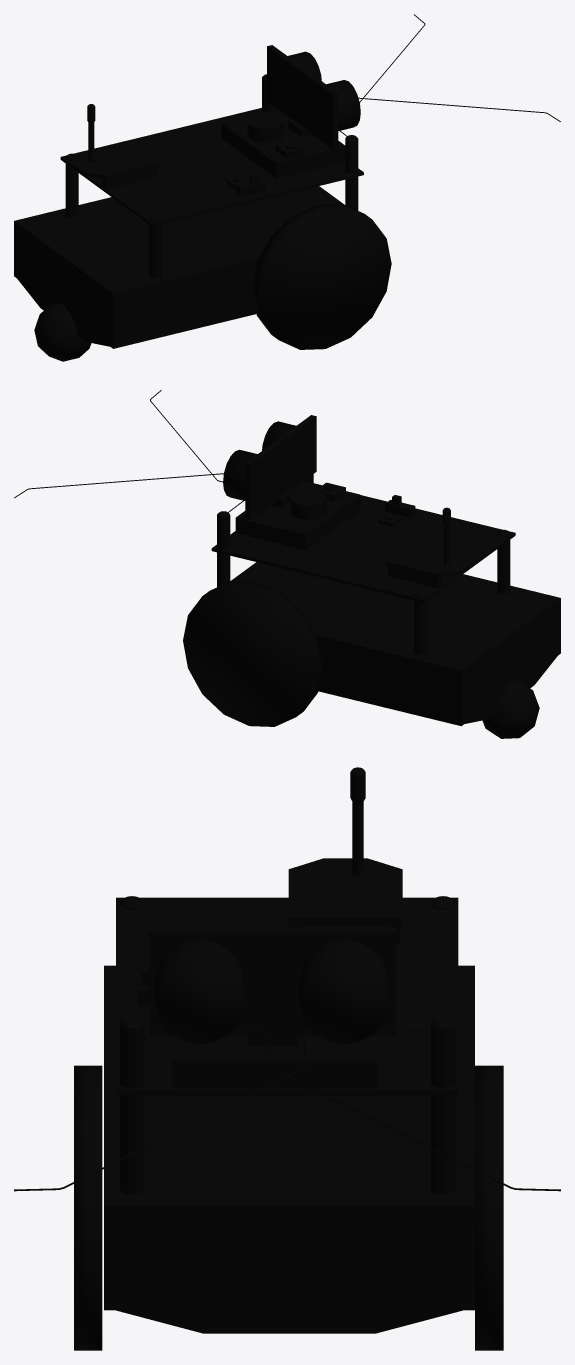
File: parallax_robot.glb
3 views of the same model, one above another, from view 1: azimuth 30°, elevation 25°; view 2: azimuth 150°, elevation 25°; view 3: azimuth 270°, elevation 25° (orthographic). The views are drawn at different scales.
Parts seen in each view (by area): view 1: node0; view 2: node0; view 3: node0.
Part boxes in pixels (bbox=[...]): node0: bbox=[14, 14, 560, 361]; node0: bbox=[14, 390, 560, 738]; node0: bbox=[14, 767, 560, 1350].
Bounding box in the file's own units: 0.2153 × 0.1083 × 0.1217.
Materials: 1 (1 with a texture image).
